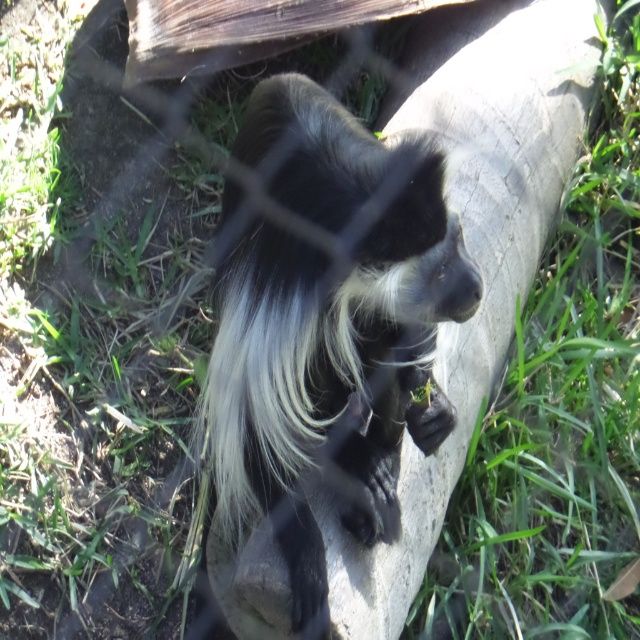Monkey: (142, 92, 488, 635)
